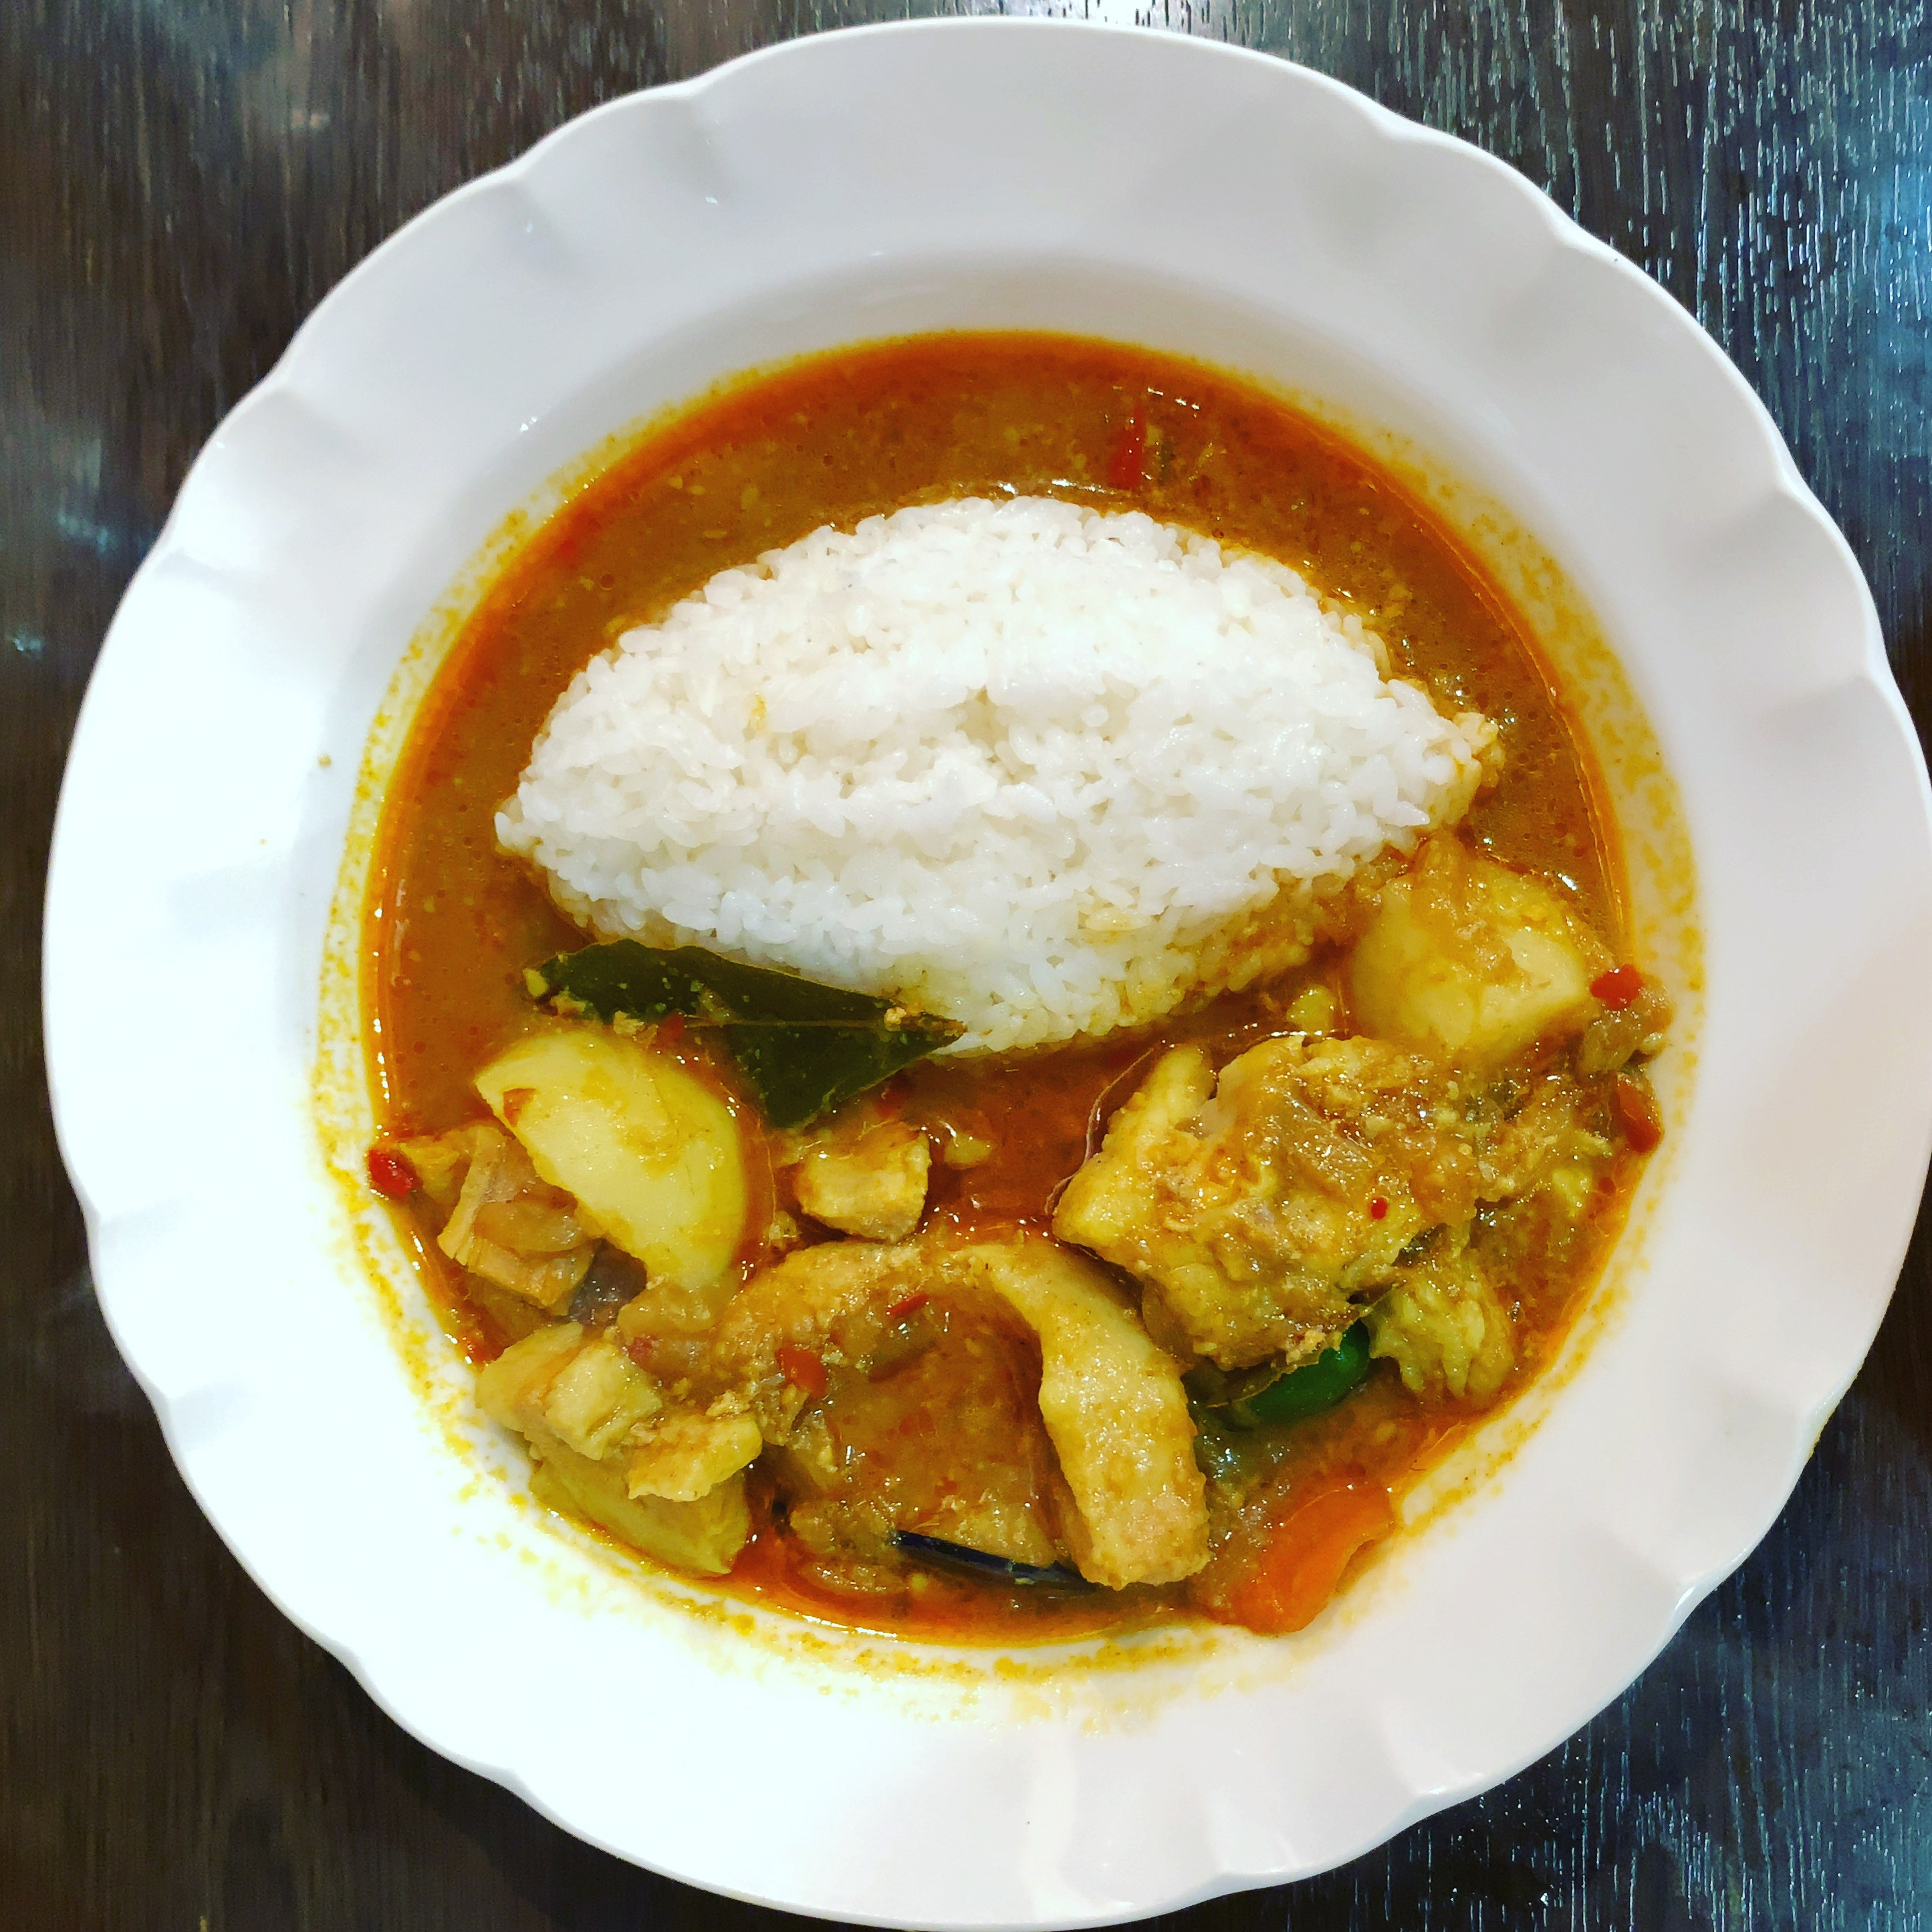curry: (389, 955, 1709, 1621)
rice: (789, 0, 1932, 1932), (506, 502, 1522, 1028)
